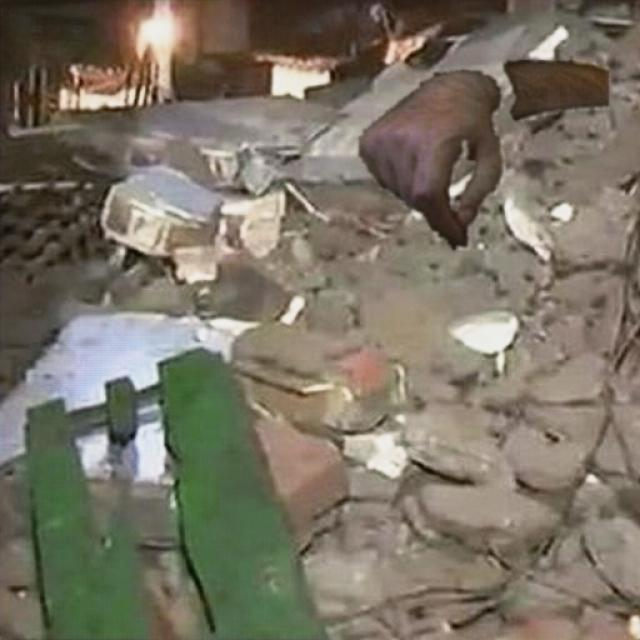Person in Rubble: (358, 56, 608, 249)
